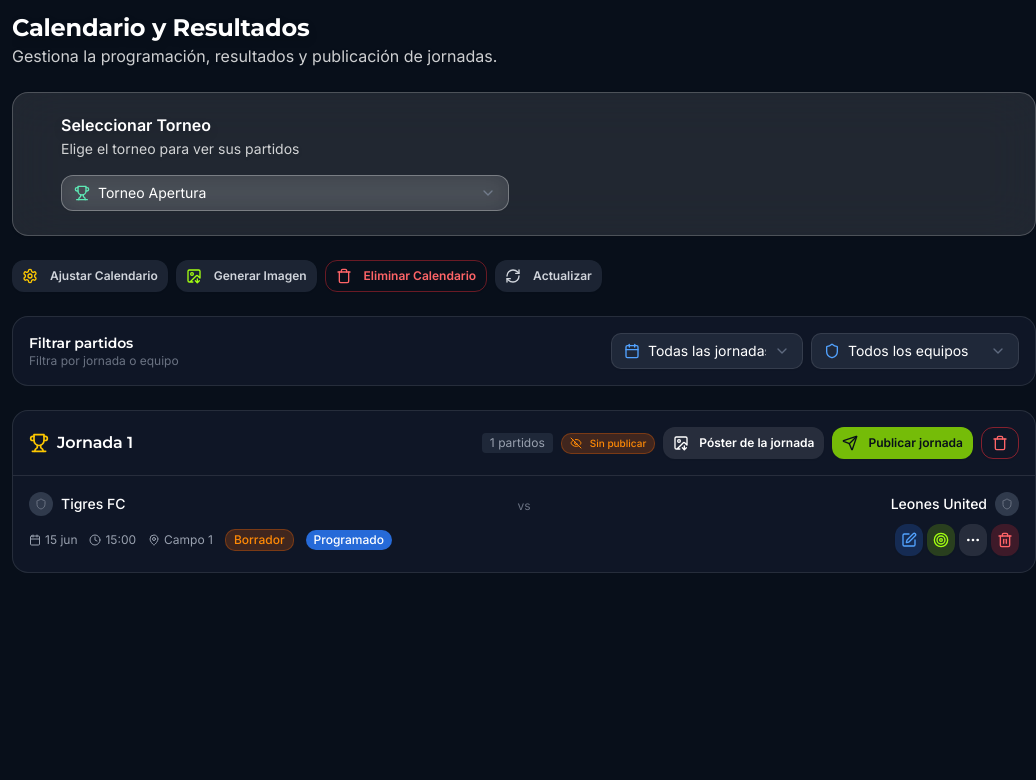
Test: round publishing › publishing runs the knowledge and WhatsApp follow-ups for that round
The width and height of the screenshot is (1036, 780).
Click the button "Publicar jornada".
click(903, 443)  # box top-left (832, 427), bottom-right (973, 459)
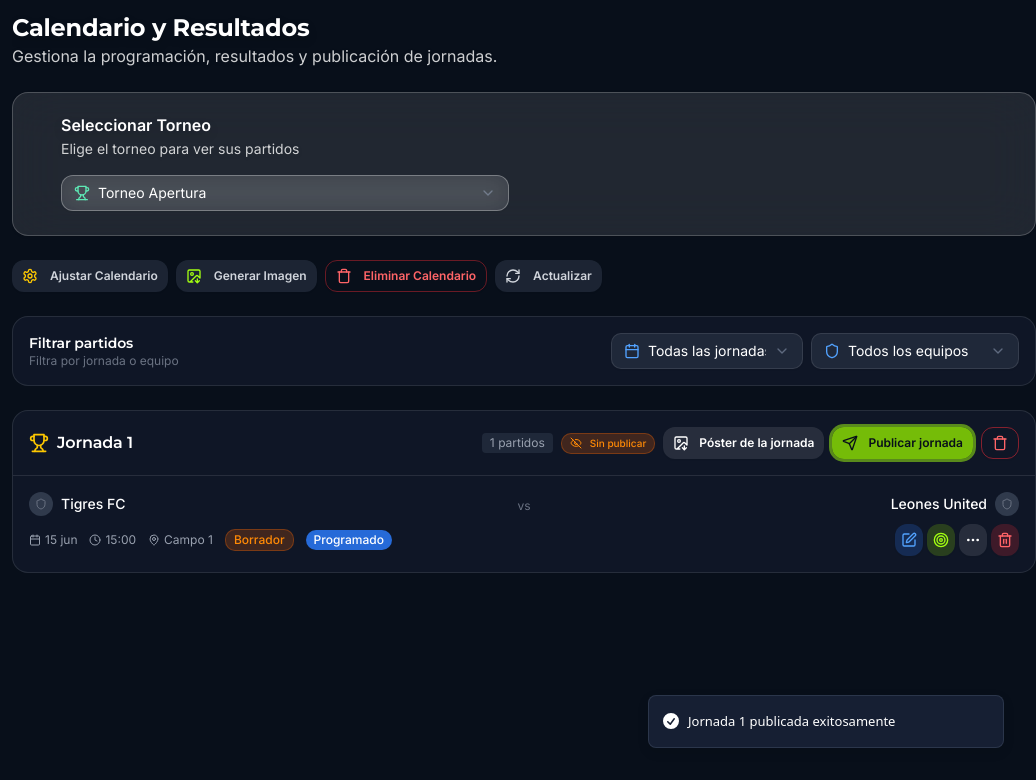
Now the text "Jornada 1 publicada exitosamente" is shown, box top-left (688, 712), bottom-right (896, 731)
